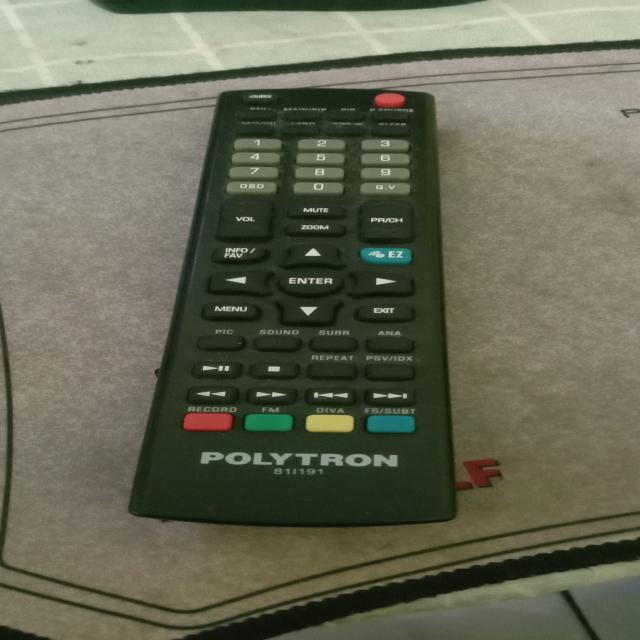remote: (102, 86, 469, 526)
